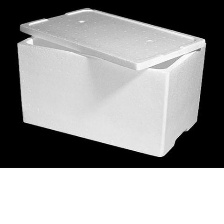foam_box: (12, 3, 209, 161)
